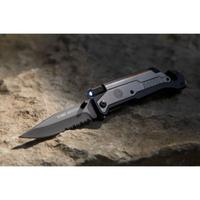knife: (14, 63, 194, 147)
